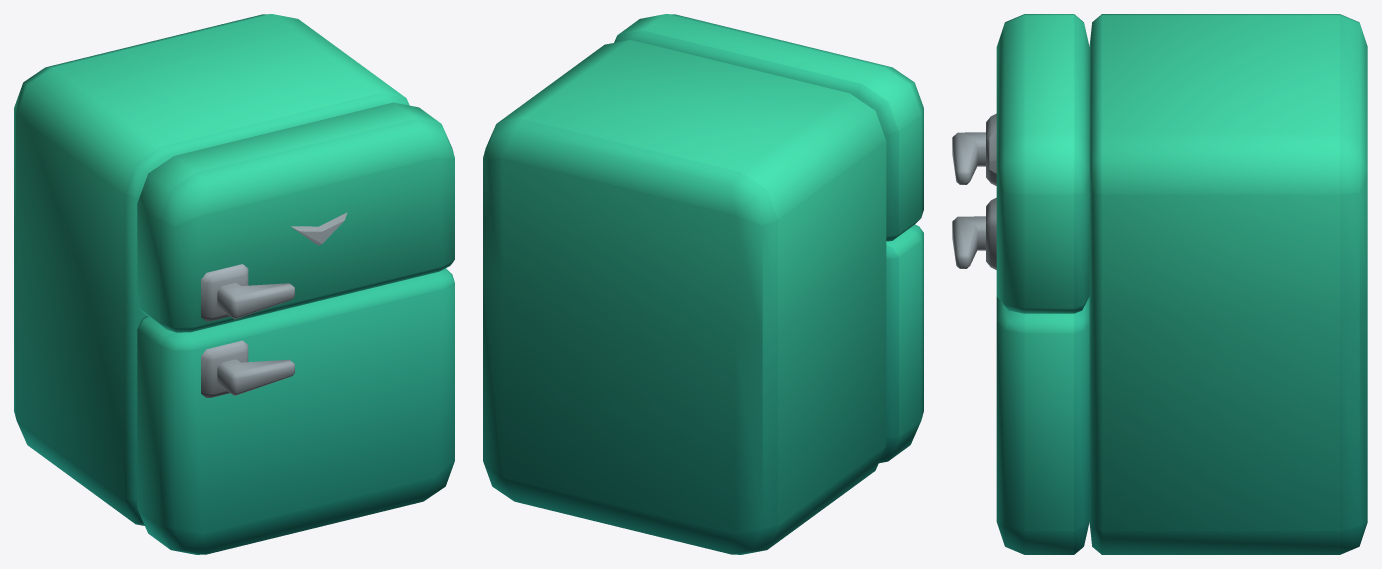
File: re-fridge_A_decorated.glb
3 views of the same model, side by side, from view 1: azimuth 30°, elevation 25°; view 2: azimuth 150°, elevation 25°; view 3: azimuth 270°, elevation 25° (orthographic). The views are drawn at different scales.
Parts seen in each view (by area): view 1: fridge_A_decorated, fridge_A_decorated_door_bottom, fridge_A_decorated_door_top; view 2: fridge_A_decorated, fridge_A_decorated_door_top, fridge_A_decorated_door_bottom; view 3: fridge_A_decorated, fridge_A_decorated_door_top, fridge_A_decorated_door_bottom.
Boxes of the visible parts, x1,y1,x2,y2 form: fridge_A_decorated: [14, 14, 409, 525]; fridge_A_decorated_door_bottom: [137, 268, 454, 554]; fridge_A_decorated_door_top: [137, 102, 454, 332]; fridge_A_decorated: [483, 39, 886, 554]; fridge_A_decorated_door_top: [614, 14, 923, 241]; fridge_A_decorated_door_bottom: [879, 224, 923, 463]; fridge_A_decorated: [1089, 14, 1367, 554]; fridge_A_decorated_door_top: [952, 14, 1089, 313]; fridge_A_decorated_door_bottom: [952, 197, 1089, 554].
Size of the model in its own units: 2 by 2.5 by 2.24.
Materials: 1 (1 with a texture image).
